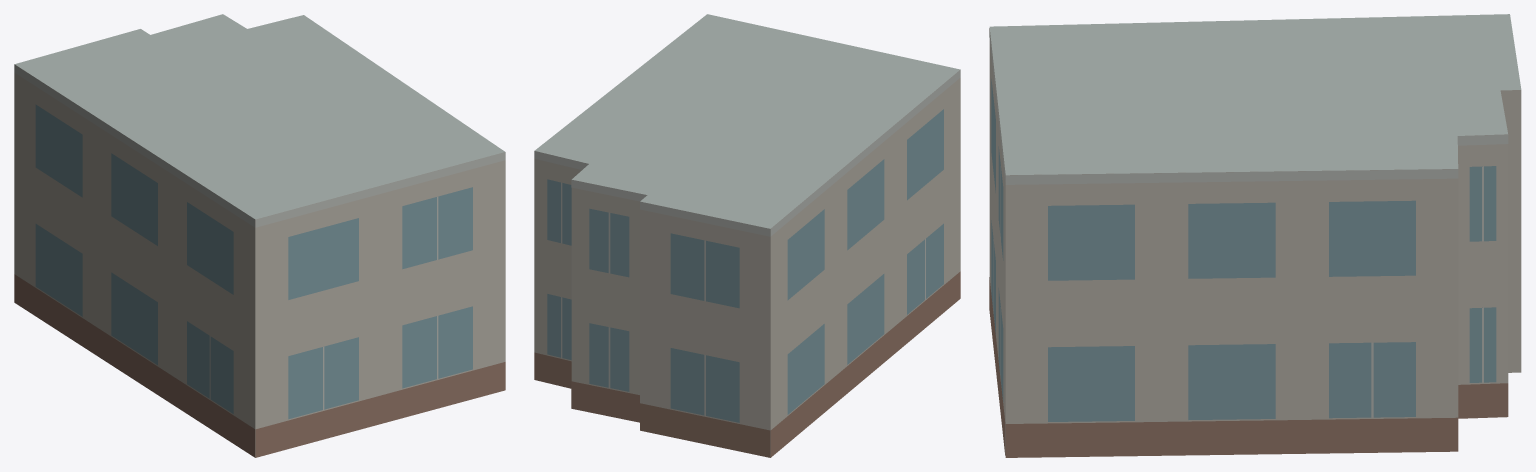
Rendered from survey-upis-32939995.glb.
3 views of the same model, side by side, from view 1: azimuth 30°, elevation 25°; view 2: azimuth 150°, elevation 25°; view 3: azimuth 270°, elevation 25° (orthographic). The views are drawn at different scales.
Parts seen in each view (by area): view 1: survey-upis-32939995.tmp; view 2: survey-upis-32939995.tmp; view 3: survey-upis-32939995.tmp.
Part boxes in pixels (box(x1,y1,x2,y2)): survey-upis-32939995.tmp: box(14, 14, 505, 457); survey-upis-32939995.tmp: box(534, 14, 960, 457); survey-upis-32939995.tmp: box(989, 14, 1521, 457).
Bounding box in the file's own units: 8.63 × 7.05 × 12.03.
